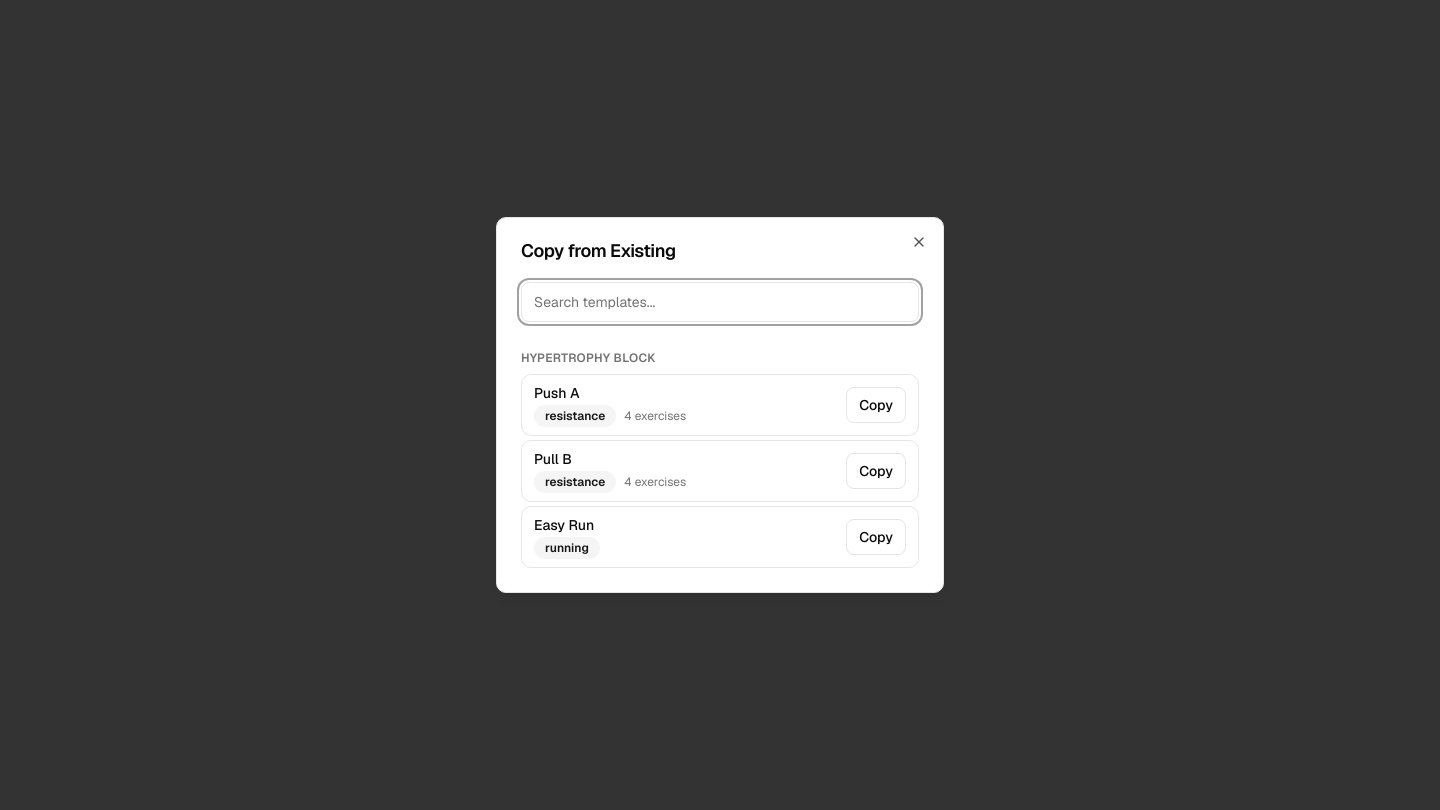
it: TemplateBrowseDialog › filters templates by search input
Type "Push" into the field with placeholder "Search templates..." at coordinates (720, 302), box [521, 282, 919, 322]
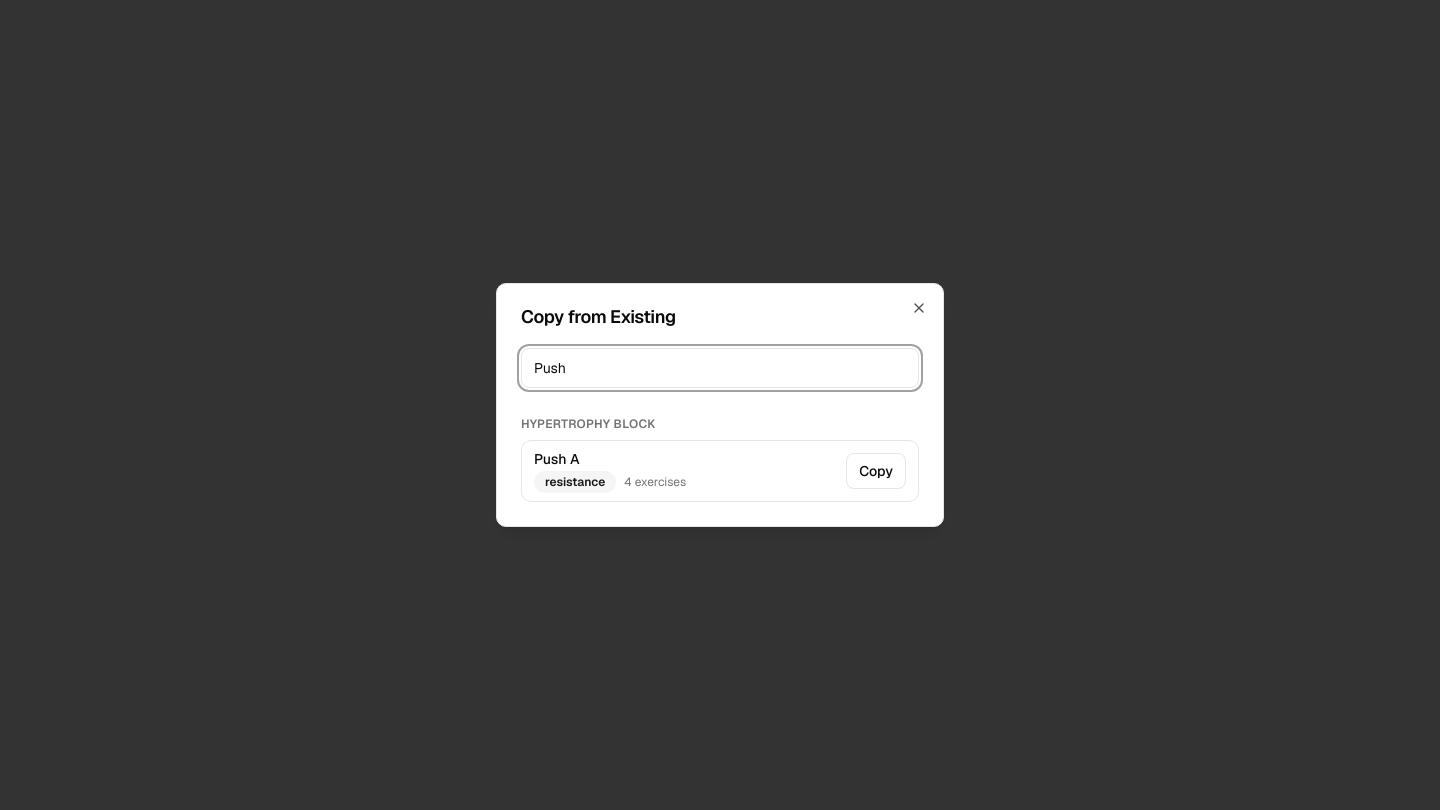
Expected: the text "Push A" is shown, [534, 450, 580, 468]
Now the text "Pull B" is gone
Now the text "Easy Run" is gone
